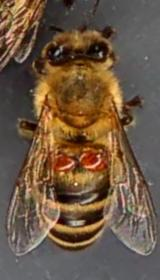varroa_mite: (76, 138, 109, 178), (46, 144, 79, 180)
